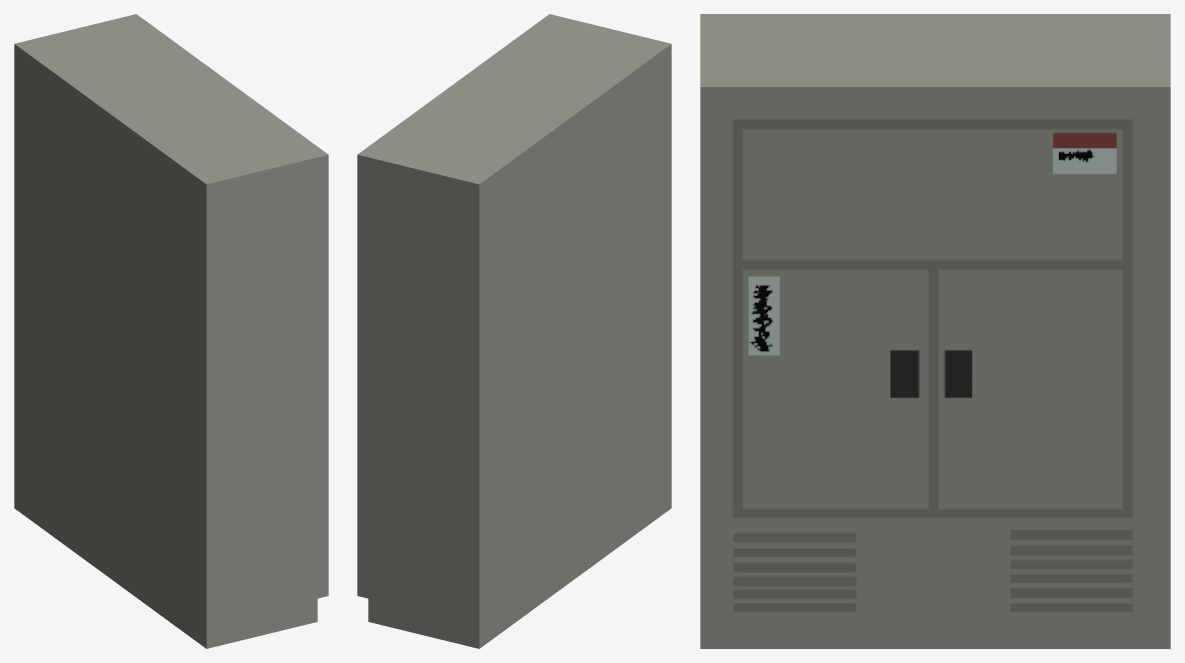
File: Electrical-decorate7.glb
The picture shows the model from 3 angles, left to right: view 1: azimuth 30°, elevation 25°; view 2: azimuth 150°, elevation 25°; view 3: azimuth 270°, elevation 25°; orthographic projection. The views are drawn at different scales.
Parts seen in each view (by area): view 1: Cube; view 2: Cube; view 3: Cube.
Part boxes in pixels (bbox=[...]): Cube: bbox=[14, 14, 328, 648]; Cube: bbox=[357, 14, 671, 648]; Cube: bbox=[700, 14, 1170, 648].
Size of the model in its own units: 2.2 by 8 by 6.
1 material, 1 textured.
